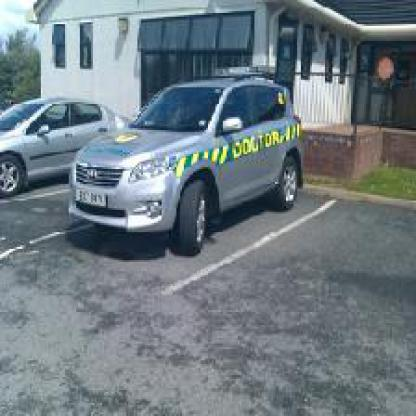emergency: (63, 59, 326, 277)
